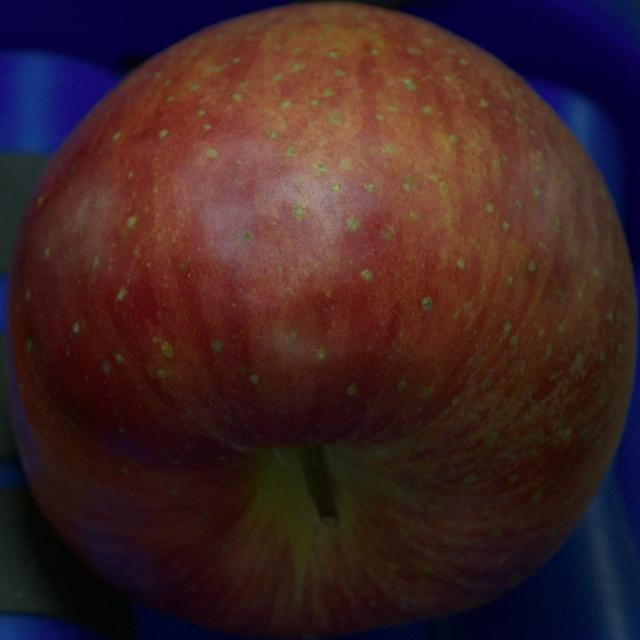apple: (6, 3, 636, 639)
bruise: (268, 291, 347, 367)
